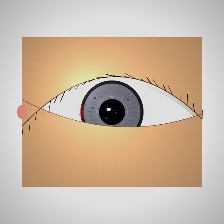hemorrhage_spot: (75, 89, 136, 138)
